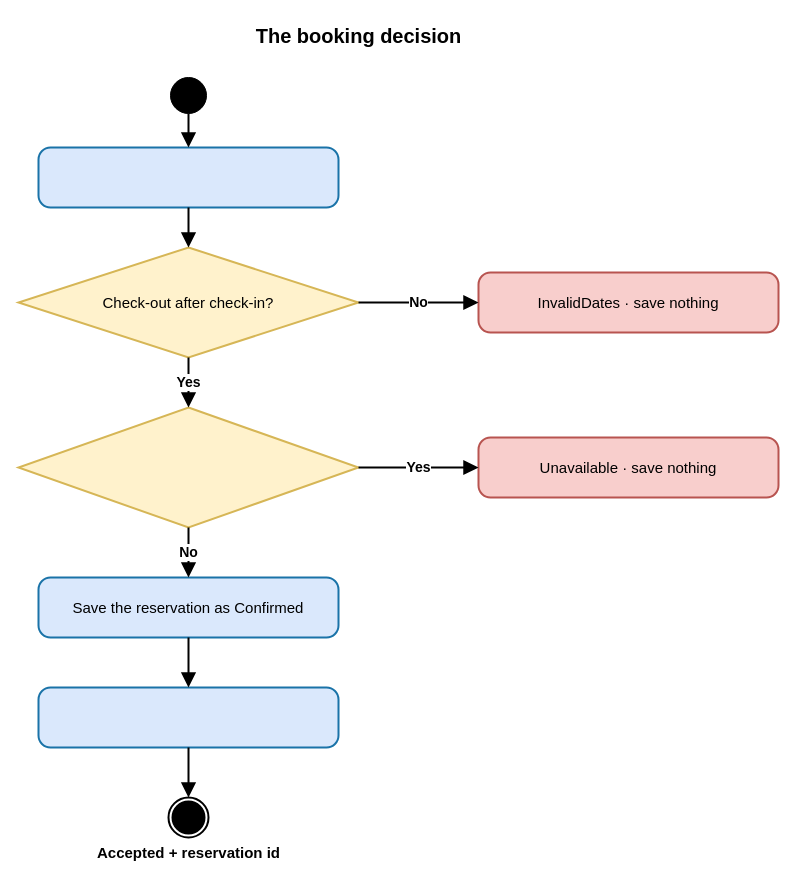
This 796x879 diagram has some shape labels left out. The centre of each missing label's shape, as x and y in pixels:
"A Confirmed booking shares a night?" goes at point 188,467.
"Reserve request received" goes at point 188,177.
"Send the confirmation email" goes at point 188,717.
